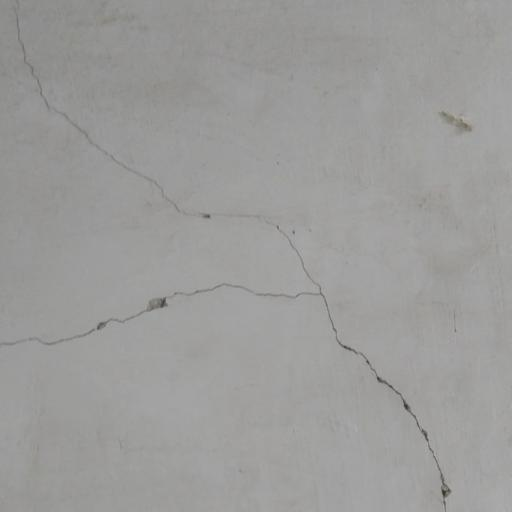minor_crack: (1, 0, 458, 512)
